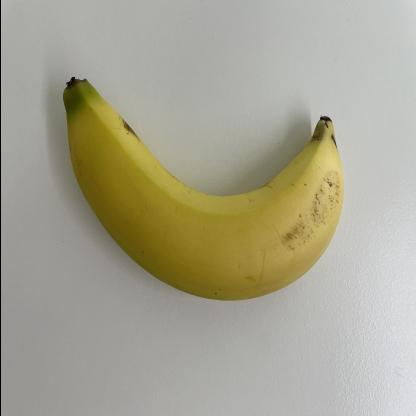banana: (58, 70, 349, 308)
